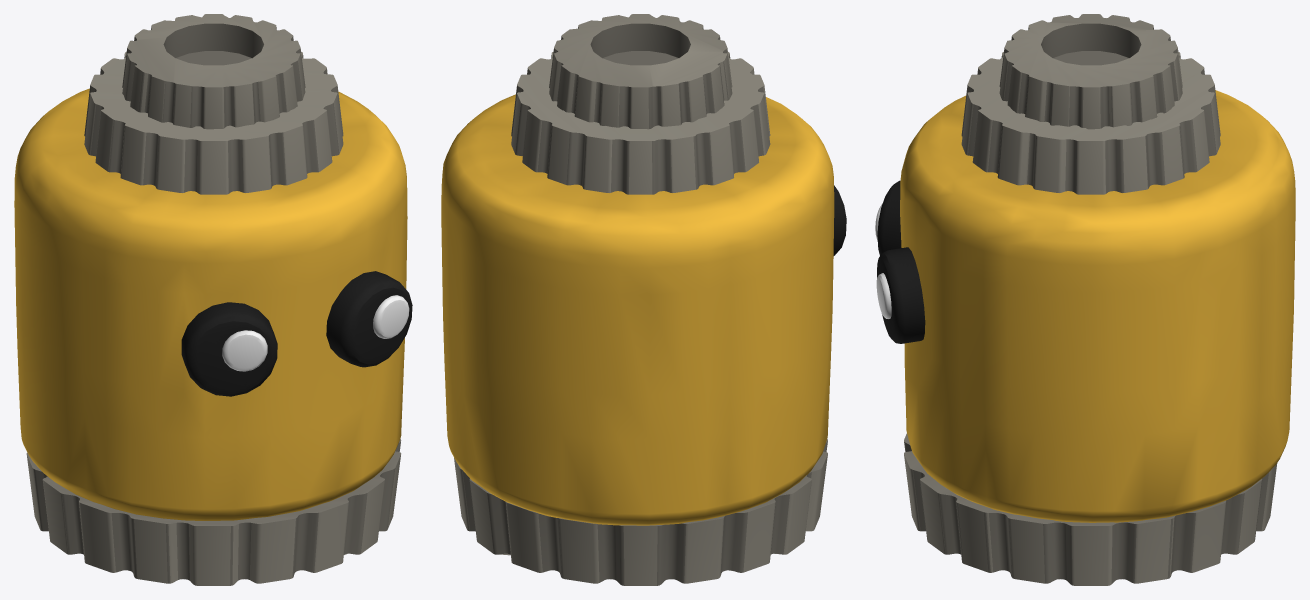
Rendered from scrawman.glb.
3 renders of one model, left to right at view 1: azimuth 30°, elevation 25°; view 2: azimuth 150°, elevation 25°; view 3: azimuth 270°, elevation 25°, orthographic.
Visible parts, largest first — view 1: /tmp/scrawman_tripobody_B; view 2: /tmp/scrawman_tripobody_B; view 3: /tmp/scrawman_tripobody_B.
Boxes of the visible parts, box(x1,y1,x2,y2) form: /tmp/scrawman_tripobody_B: box(14, 14, 412, 585); /tmp/scrawman_tripobody_B: box(441, 14, 846, 585); /tmp/scrawman_tripobody_B: box(875, 14, 1295, 585).
Size of the model in its own units: 0.7576 by 0.9937 by 0.8129.
